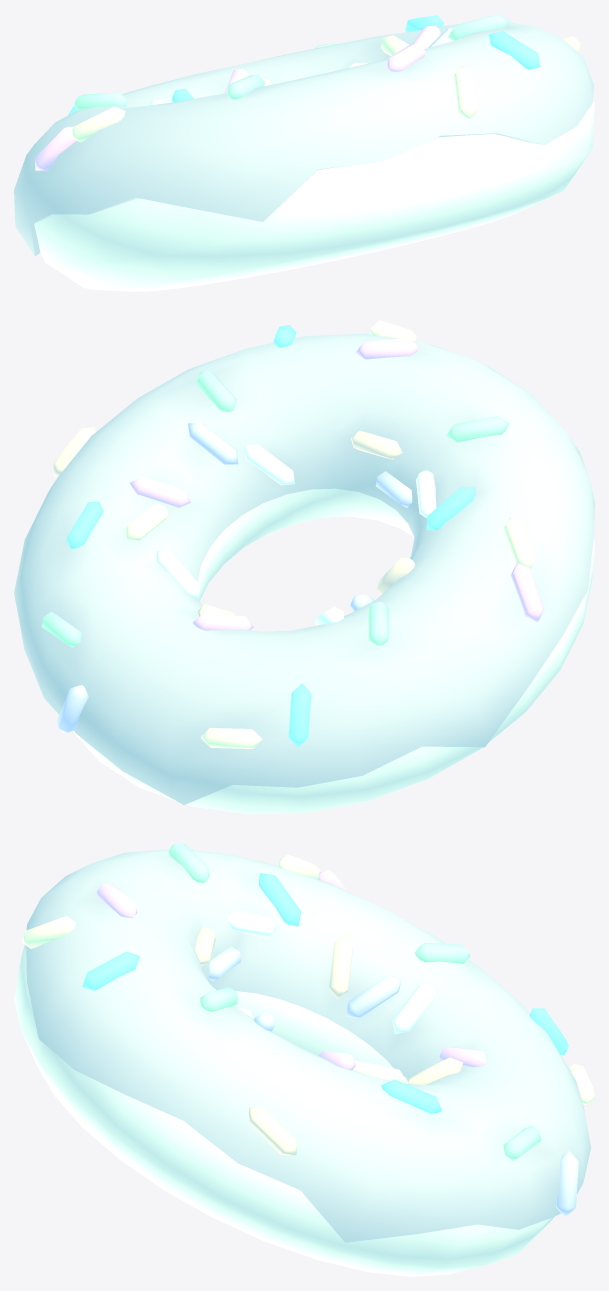
File: props__CandyDonut.glb
3 views of the same model, one above another, from view 1: azimuth 30°, elevation 25°; view 2: azimuth 150°, elevation 25°; view 3: azimuth 270°, elevation 25° (orthographic). The views are drawn at different scales.
Visible parts, largest first — view 1: CandyDonut; view 2: CandyDonut; view 3: CandyDonut.
Part boxes in pixels (bbox=[...]): CandyDonut: bbox=[14, 14, 594, 291]; CandyDonut: bbox=[14, 320, 594, 814]; CandyDonut: bbox=[14, 843, 594, 1276].
Size of the model in its own units: 9.69 by 5.9 by 9.09.
